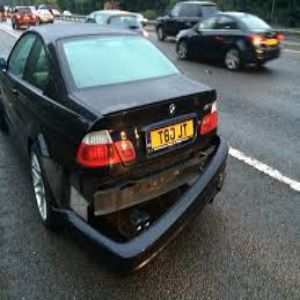bumper: (125, 170, 184, 260)
